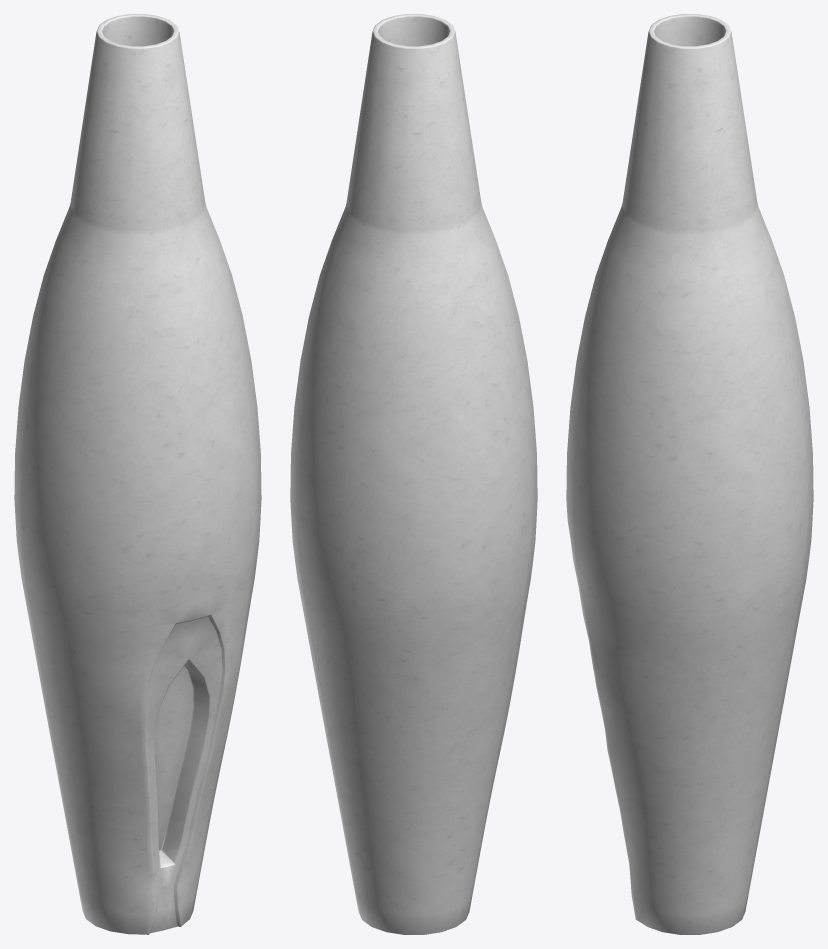
The model's file is VaseFloor01.FBX.
3 renders of one model, left to right at view 1: azimuth 30°, elevation 25°; view 2: azimuth 150°, elevation 25°; view 3: azimuth 270°, elevation 25°, orthographic.
Visible parts, largest first — view 1: VaseFloor01; view 2: VaseFloor01; view 3: VaseFloor01.
Boxes of the visible parts, x1,y1,x2,y2 form: VaseFloor01: [14, 14, 261, 934]; VaseFloor01: [290, 14, 537, 934]; VaseFloor01: [566, 14, 813, 934].
Size of what is drawn, in the model's own units: 0.3784 by 1.51 by 0.3841.
